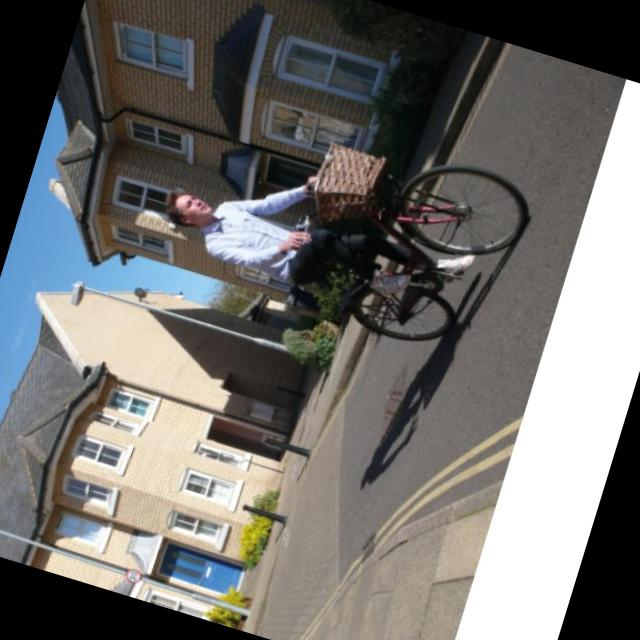bareface: (158, 184, 218, 236)
